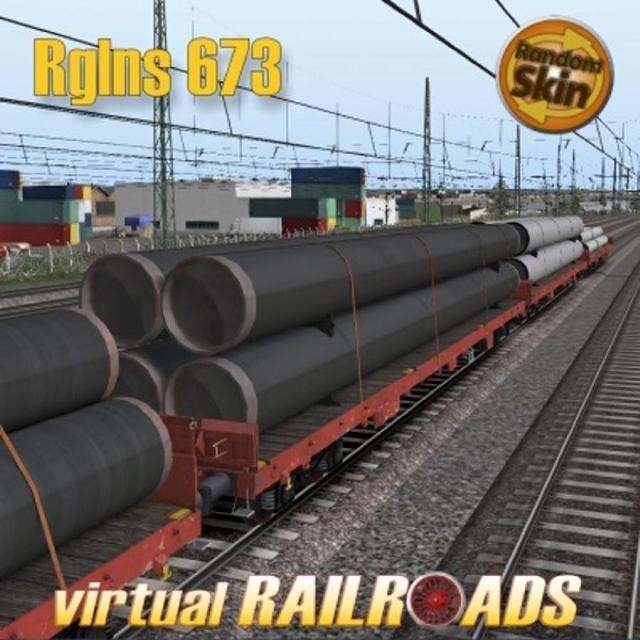cargo: (75, 216, 525, 431), (504, 207, 587, 281)
flatcar: (177, 274, 533, 518), (527, 250, 588, 305)
